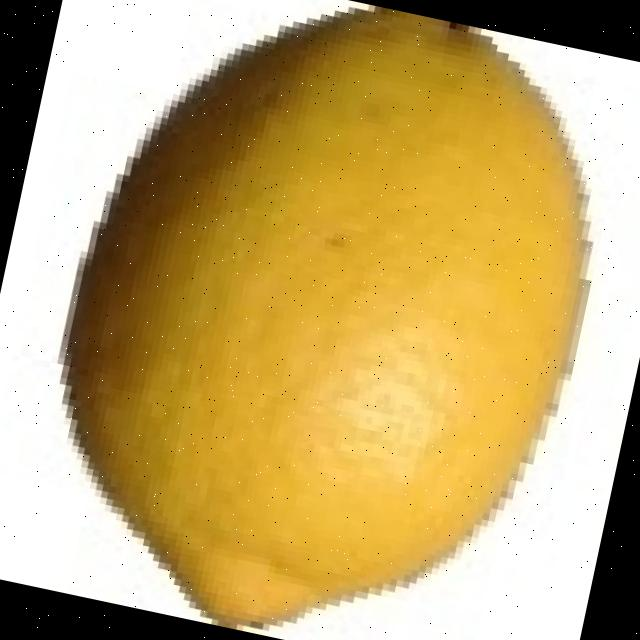lemon: (63, 5, 585, 629)
